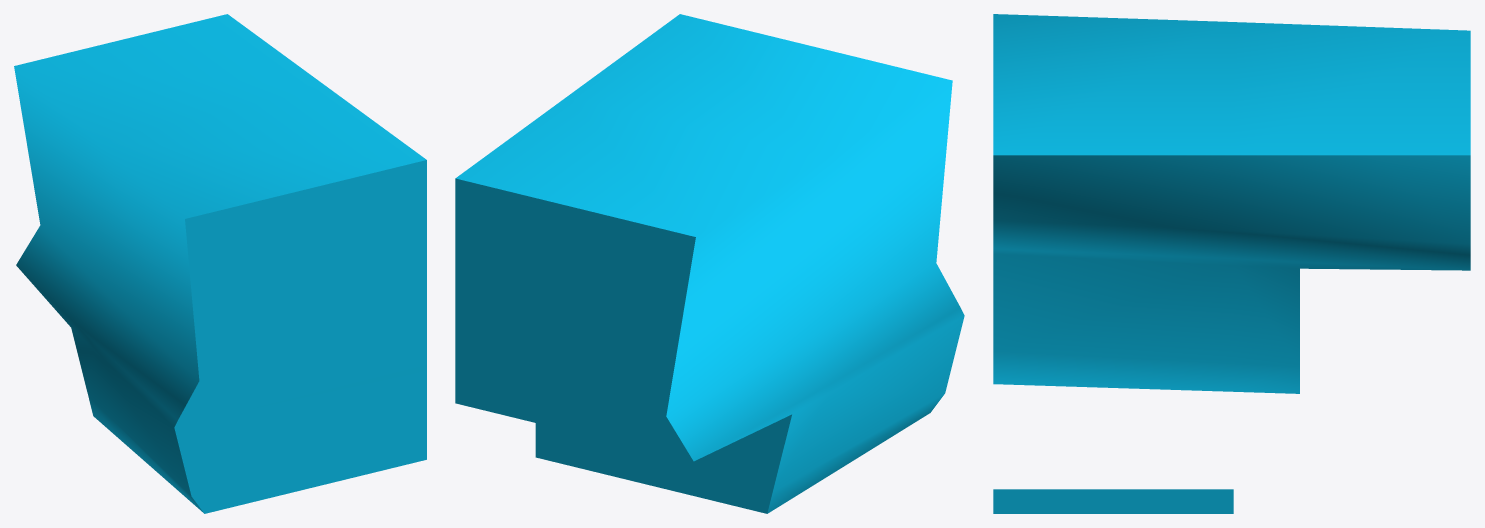
Rendered from woda_1_6_2.FBX.
3 renders of one model, left to right at view 1: azimuth 30°, elevation 25°; view 2: azimuth 150°, elevation 25°; view 3: azimuth 270°, elevation 25°, orthographic. The views are drawn at different scales.
Visible parts, largest first — view 1: woda_1_6_2; view 2: woda_1_6_2; view 3: woda_1_6_2.
Boxes of the visible parts, <box> form: woda_1_6_2: <box>14,14,426,513</box>; woda_1_6_2: <box>455,14,964,513</box>; woda_1_6_2: <box>993,14,1470,513</box>.
Bounding box in the file's own units: 6.7 × 7.6 × 9.16.
